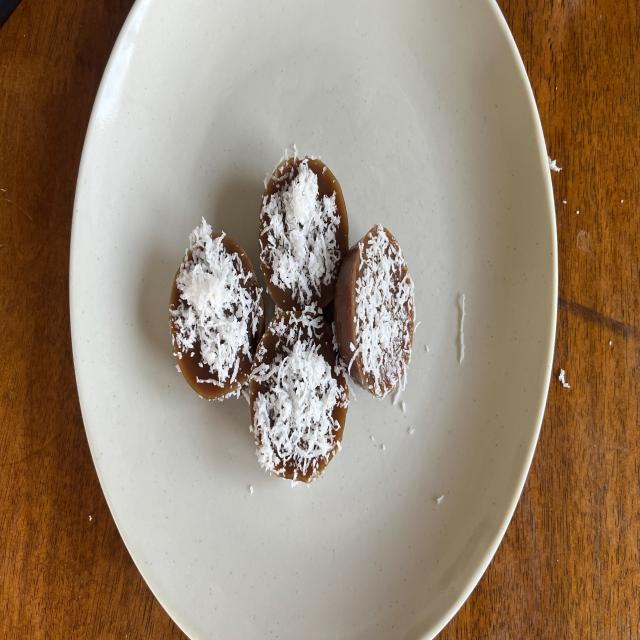Kuih lompang: (251, 153, 349, 480), (169, 218, 264, 400), (250, 309, 349, 482), (334, 224, 415, 398)
